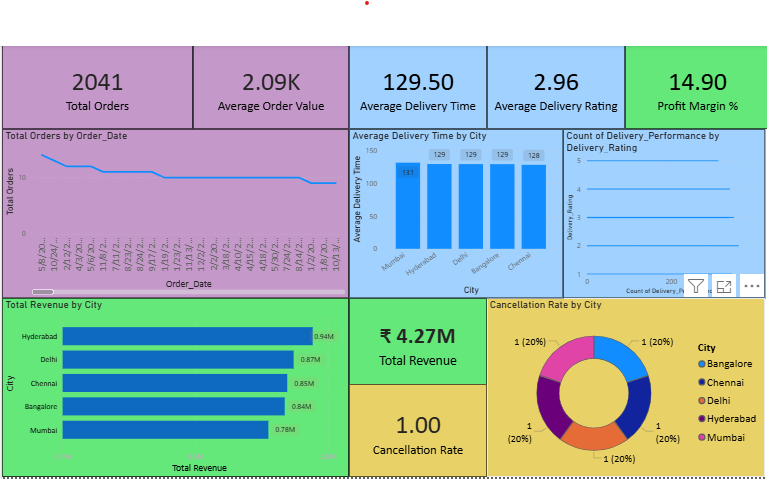

Layout of this report page (visuals, bound fields, positions):
{"tool":"powerbi","page":{"name":"Page 1","canvas":[1280,720],"ordinal":0},"visuals":[{"type":"card","fields":{"Values":["food_delivery_orders.Total Orders"]},"box":[0,0,318.3,140],"z":0},{"type":"card","fields":{"Values":["food_delivery_orders.Total Revenue"]},"box":[578.3,421.7,230,150],"z":1000},{"type":"card","fields":{"Values":["food_delivery_orders.Average Order Value"]},"box":[318.3,0,260,140],"z":2000},{"type":"card","fields":{"Values":["food_delivery_orders.Average Delivery Time"]},"box":[578.3,0,230,140],"z":3000},{"type":"card","fields":{"Values":["food_delivery_orders.Cancellation Rate"]},"box":[578.3,565,230,155],"z":4000},{"type":"card","fields":{"Values":["food_delivery_orders.Average Delivery Rating"]},"box":[808.3,0,230,140],"z":5000},{"type":"card","fields":{"Values":["food_delivery_orders.Profit Margin %"]},"box":[1038.3,0,241.7,140],"z":6000},{"type":"lineChart","fields":{"Category":["food_delivery_orders.Order_Date"],"Y":["food_delivery_orders.Total Orders"]},"box":[0,140,578.3,281.7],"z":7000},{"type":"clusteredBarChart","fields":{"Category":["food_delivery_orders.City"],"Y":["food_delivery_orders.Total Revenue","select"]},"box":[0,421.7,578.3,298.3],"z":8000},{"type":"barChart","fields":{"Category":["food_delivery_orders.Delivery_Rating"],"Y":["CountNonNull(food_delivery_orders.Delivery_Performance)"]},"box":[935,140,336.7,281.7],"z":9000},{"type":"donutChart","fields":{"Y":["food_delivery_orders.Cancellation Rate"],"Category":["food_delivery_orders.City"]},"box":[808.3,421.7,463.3,298.3],"z":10000},{"type":"clusteredColumnChart","fields":{"Category":["food_delivery_orders.City"],"Y":["food_delivery_orders.Average Delivery Time"]},"box":[578.3,140,356.7,281.7],"z":11000}]}

Visuals, with their boxes in screenshot pixels (x1, y1, x2, y2):
card - food_delivery_orders.Total Orders: (6, 46, 194, 129)
card - food_delivery_orders.Total Revenue: (348, 295, 484, 384)
card - food_delivery_orders.Average Order Value: (194, 46, 348, 129)
card - food_delivery_orders.Average Delivery Time: (348, 46, 484, 129)
card - food_delivery_orders.Cancellation Rate: (348, 380, 484, 471)
card - food_delivery_orders.Average Delivery Rating: (484, 46, 620, 129)
card - food_delivery_orders.Profit Margin %: (620, 46, 762, 129)
lineChart - food_delivery_orders.Order_Date x food_delivery_orders.Total Orders: (6, 129, 348, 295)
clusteredBarChart - food_delivery_orders.City x food_delivery_orders.Total Revenue: (6, 295, 348, 471)
barChart - food_delivery_orders.Delivery_Rating x CountNonNull(food_delivery_orders.Delivery_Performance): (559, 129, 757, 295)
donutChart - food_delivery_orders.Cancellation Rate x food_delivery_orders.City: (484, 295, 757, 471)
clusteredColumnChart - food_delivery_orders.City x food_delivery_orders.Average Delivery Time: (348, 129, 559, 295)
